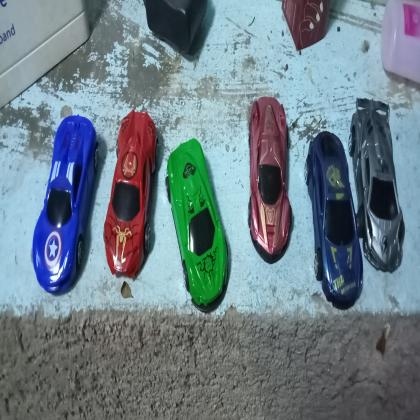Car: (31, 115, 97, 297), (166, 137, 228, 314), (304, 128, 362, 310), (104, 108, 158, 281), (352, 97, 403, 272), (249, 94, 291, 258)
